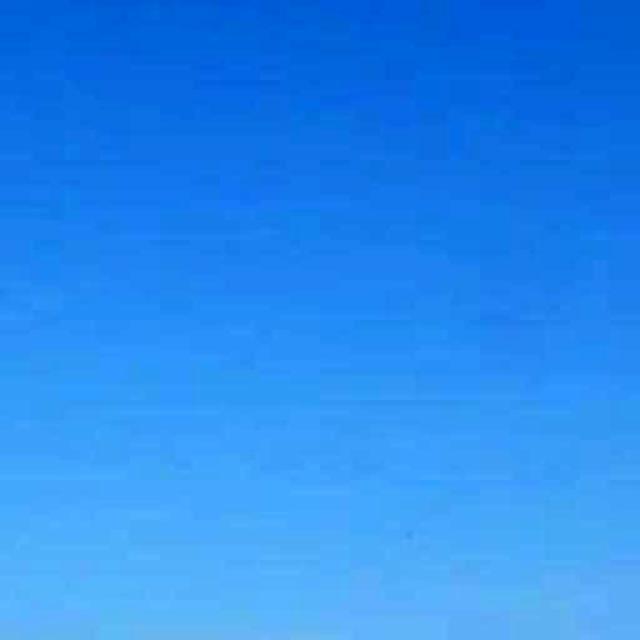drone: (375, 494, 448, 574)
